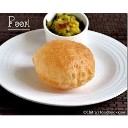poori: (32, 39, 96, 88)
